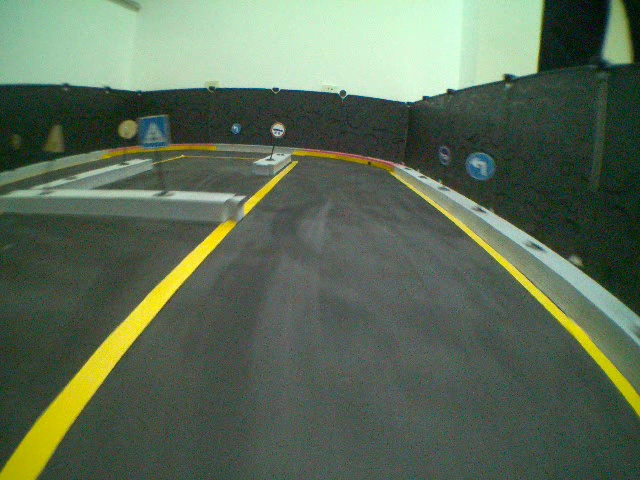Check: (269, 121, 286, 137)
crossing: (139, 114, 170, 149)
horn: (437, 145, 451, 166)
turn: (465, 150, 496, 181), (230, 122, 241, 135)
